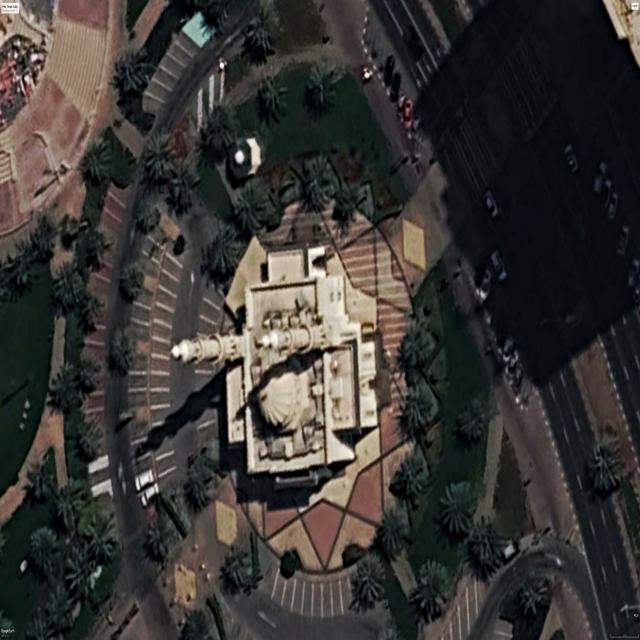mosque: (170, 246, 382, 475)
